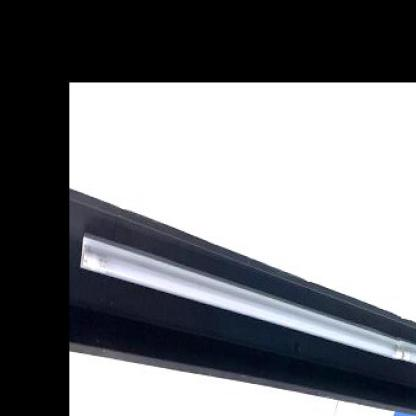light_off: (77, 193, 415, 415)
